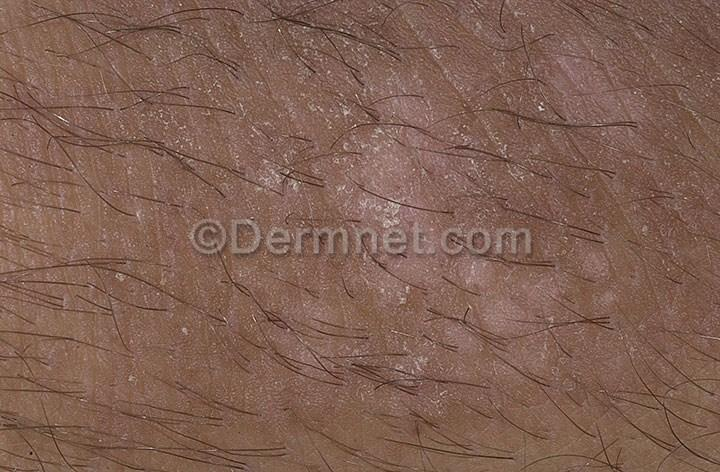Eczema: (220, 41, 511, 225), (273, 267, 546, 430), (512, 34, 720, 228), (556, 244, 692, 357)
